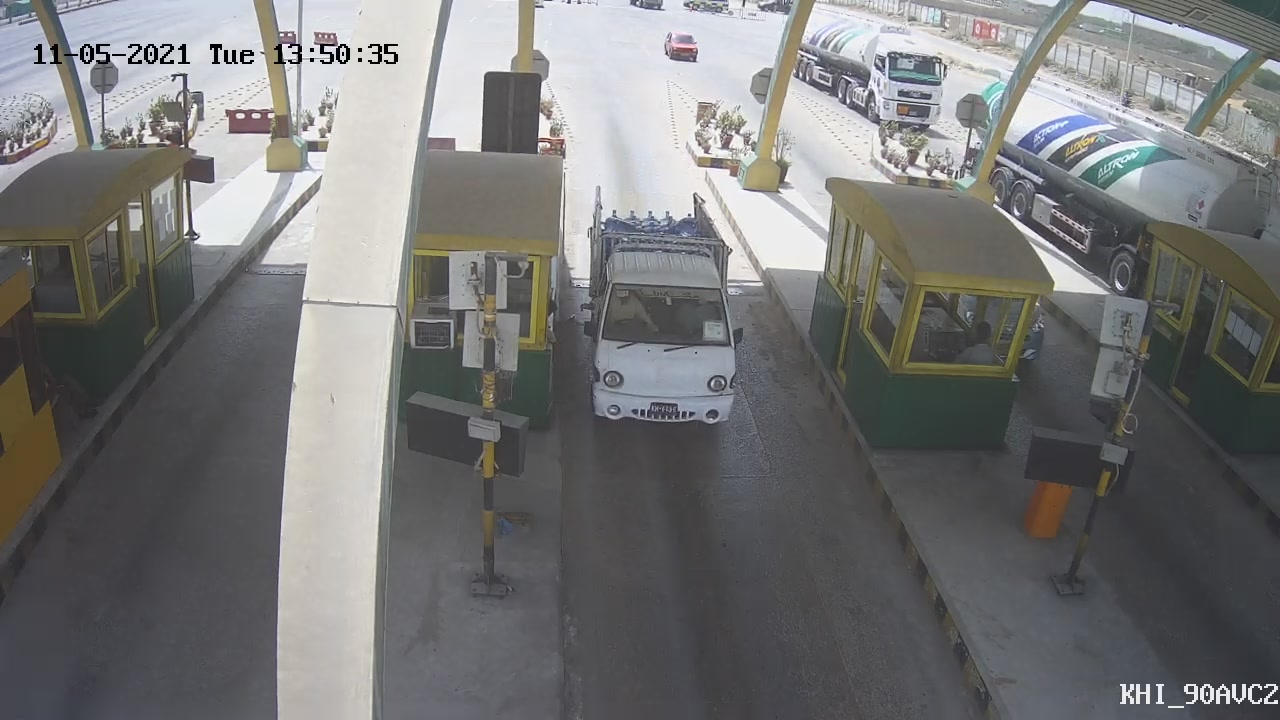F2: (581, 177, 748, 444)
